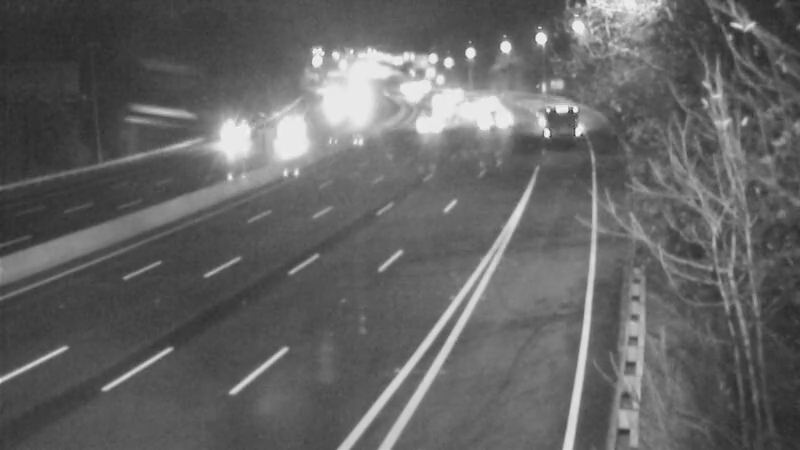vehicle: (425, 65, 475, 115), (415, 75, 465, 125), (466, 76, 516, 126), (418, 87, 468, 137), (444, 93, 494, 143), (529, 93, 579, 143), (467, 93, 517, 143), (407, 97, 457, 147), (203, 117, 253, 167), (274, 105, 324, 155)
